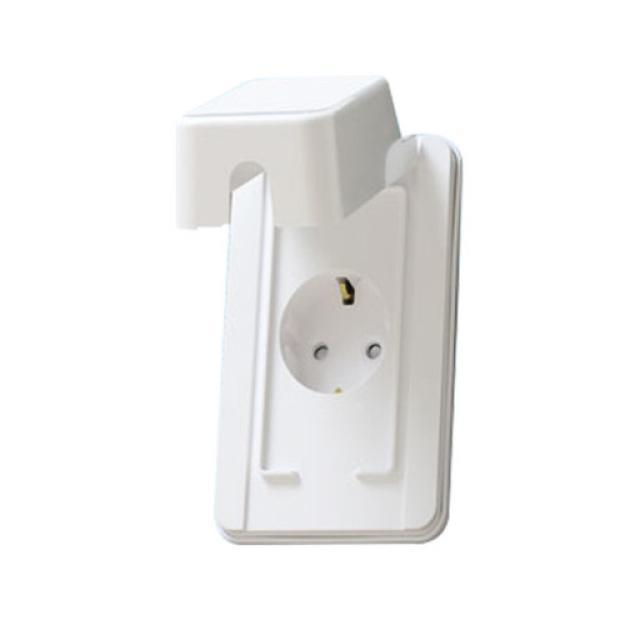typeb: (140, 67, 526, 564)
